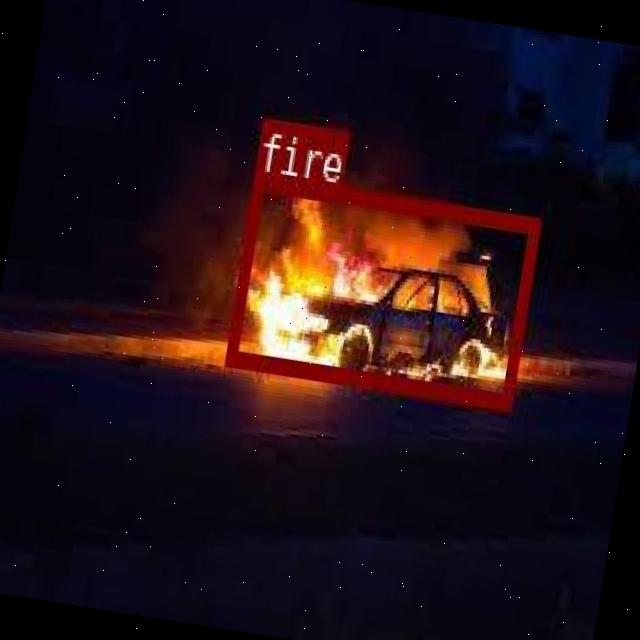fire: (224, 170, 538, 406)
